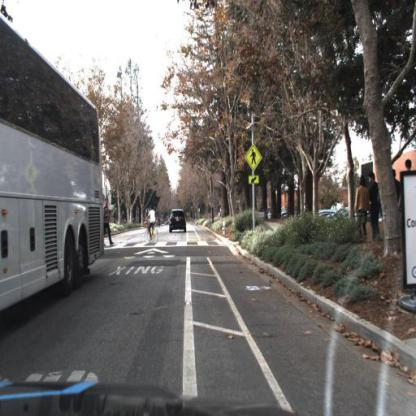biker: (143, 204, 161, 244)
car: (167, 206, 189, 237)
pedestrian: (365, 173, 384, 243), (355, 173, 372, 243), (355, 175, 371, 241), (368, 164, 380, 242), (103, 190, 115, 249)
truck: (1, 10, 106, 320)
